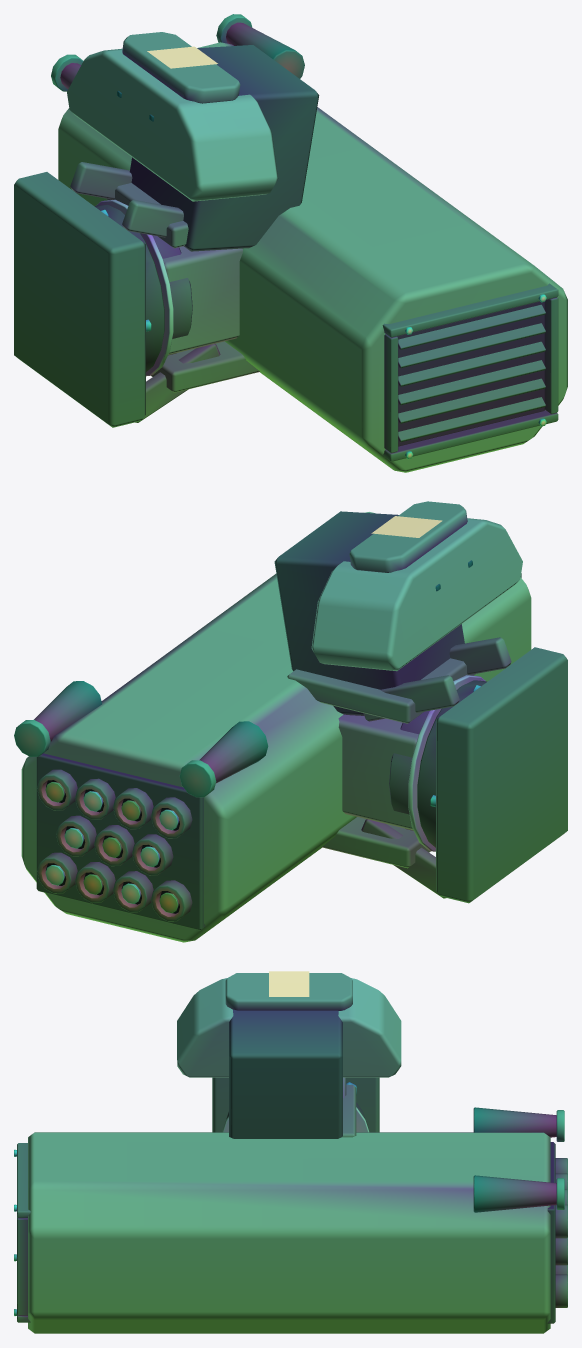
File: arm_ram116.glb
3 renders of one model, top to bottom at view 1: azimuth 30°, elevation 25°; view 2: azimuth 150°, elevation 25°; view 3: azimuth 270°, elevation 25°, orthographic. The views are drawn at different scales.
Visible parts, largest first — view 1: Body__armor, Body__gunmetal, Body__dark, Body__armor_sub, Body__chrome, Body__decal, Body__glass; view 2: Body__armor, Body__gunmetal, Body__dark, Body__armor_sub, Body__chrome, Body__glass, Body__brass, Body__decal, Body__bore; view 3: Body__armor, Body__dark, Body__gunmetal, Body__armor_sub, Body__decal, Body__glass.
Boxes of the visible parts, x1,y1,x2,y2 form: Body__armor: [58, 42, 567, 472]; Body__gunmetal: [14, 22, 558, 461]; Body__dark: [95, 45, 544, 446]; Body__armor_sub: [70, 32, 259, 422]; Body__chrome: [96, 199, 546, 458]; Body__decal: [147, 46, 217, 68]; Body__glass: [51, 14, 252, 91]; Body__armor: [21, 512, 531, 942]; Body__gunmetal: [34, 573, 567, 921]; Body__dark: [36, 511, 486, 930]; Body__armor_sub: [287, 501, 511, 898]; Body__chrome: [45, 675, 485, 903]; Body__glass: [14, 719, 216, 797]; Body__brass: [45, 782, 179, 913]; Body__decal: [371, 516, 442, 537]; Body__bore: [46, 780, 179, 913]; Body__armor: [28, 978, 550, 1333]; Body__dark: [223, 1009, 555, 1323]; Body__gunmetal: [17, 1077, 567, 1322]; Body__armor_sub: [225, 973, 356, 1137]; Body__decal: [269, 971, 309, 996]; Body__glass: [556, 1110, 564, 1209].
Size of the model in its own units: 1.02 by 0.9269 by 1.65.
